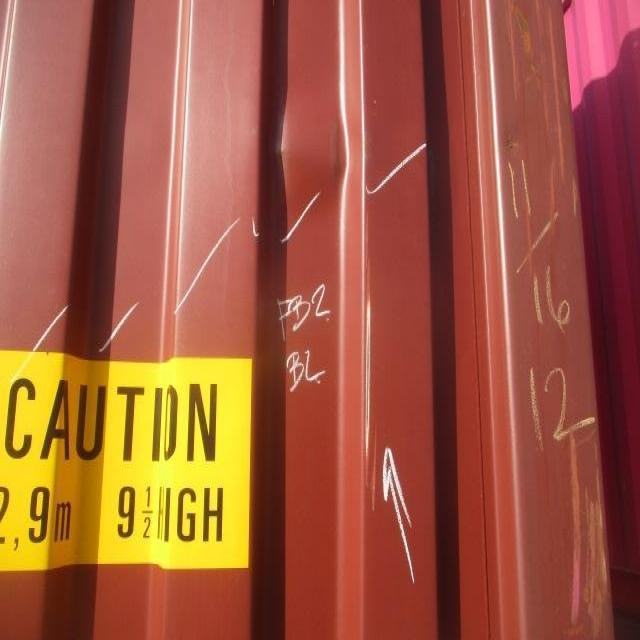Minor-Dent: (253, 62, 370, 250)
